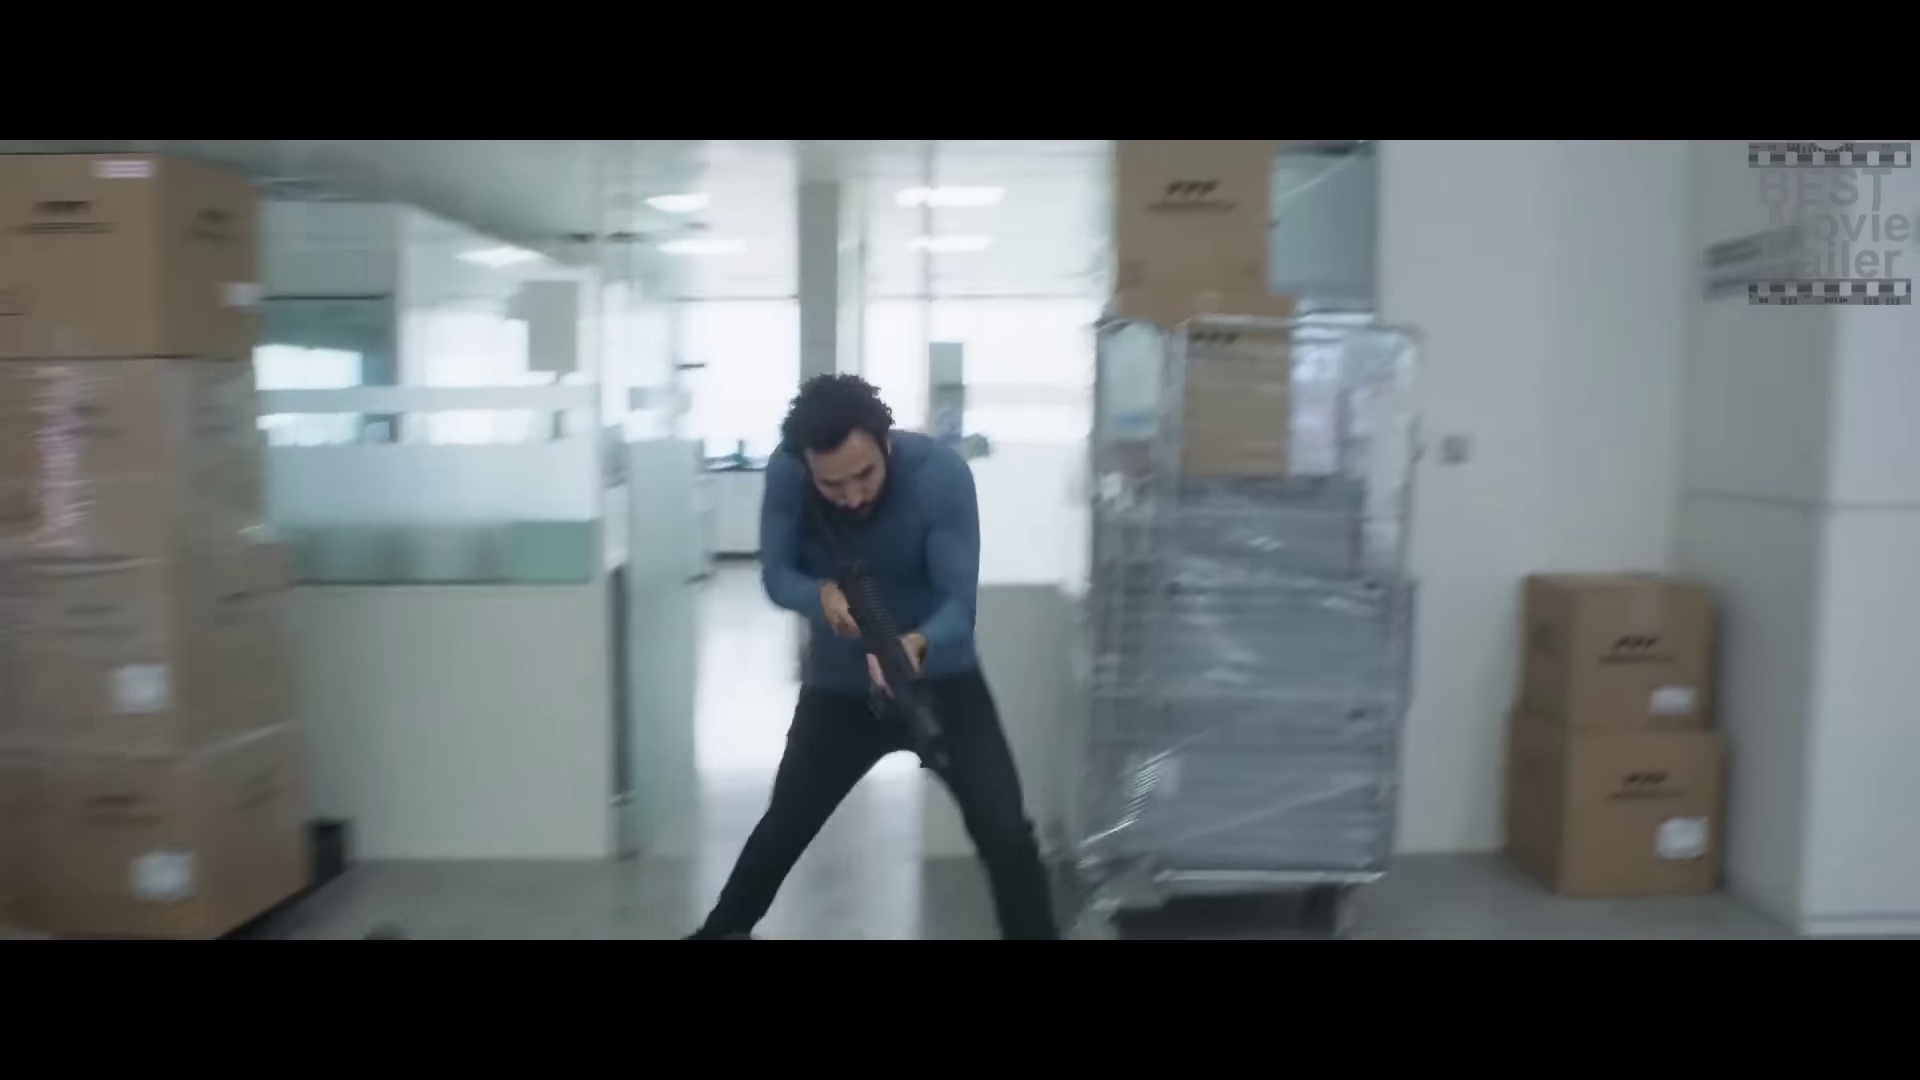gun: (803, 502, 964, 779)
p_w_gun: (695, 372, 1062, 942)
